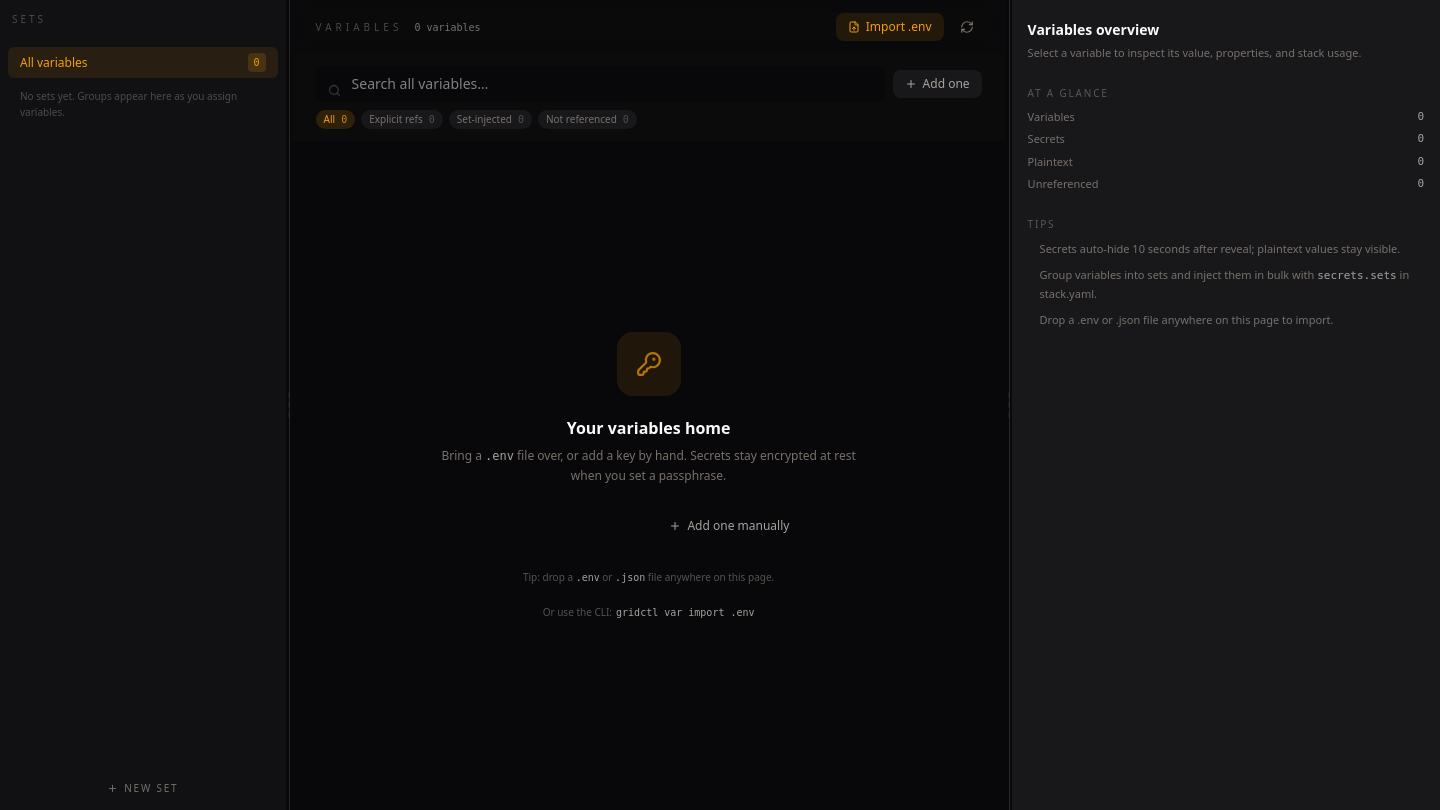
Test: VaultWorkspace — empty state › opens the import modal when the header CTA is clicked
Click the button "Import .env".
click(890, 27)  # box [836, 13, 944, 41]
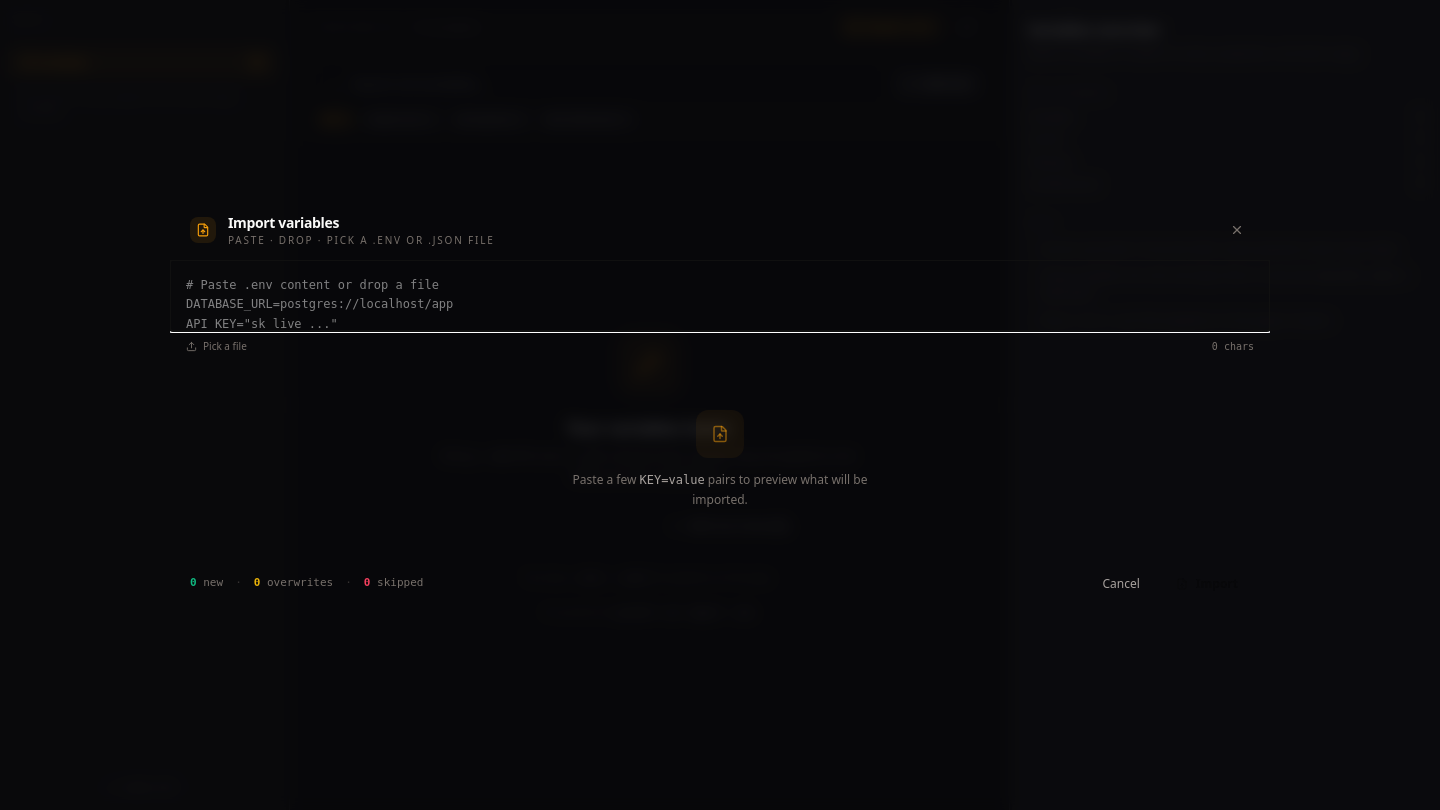
Result: the dialog "Import variables" is shown at [170, 200, 1270, 610]
